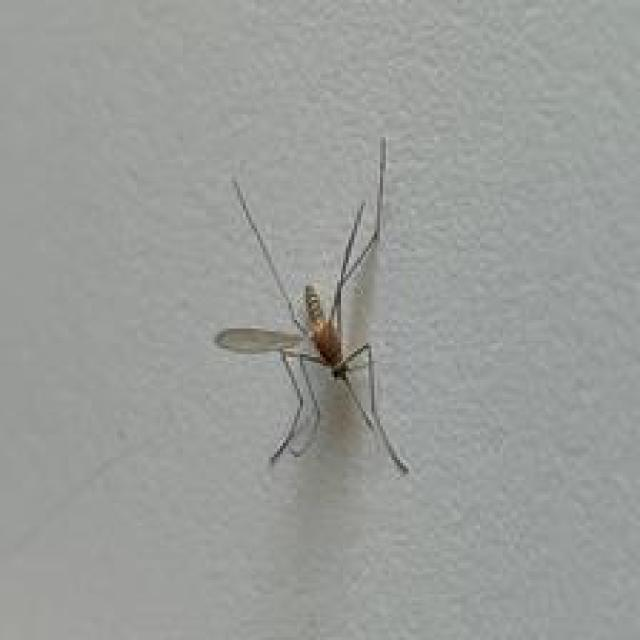Culex: (213, 136, 413, 476)
